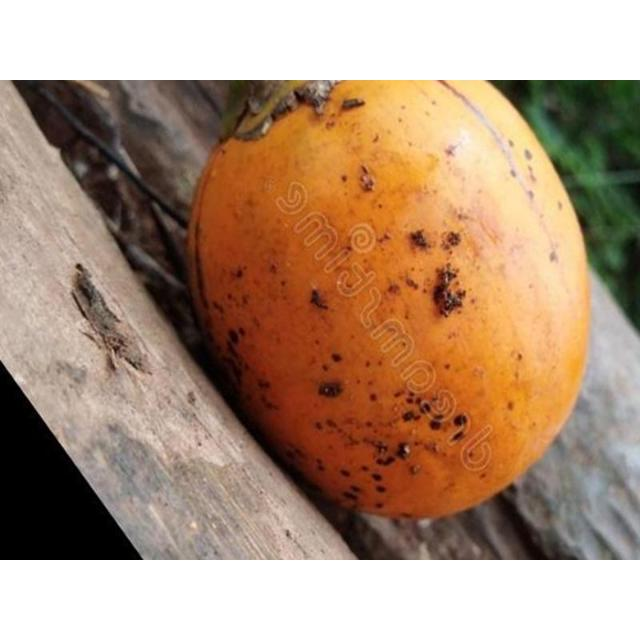good: (182, 80, 594, 522)
